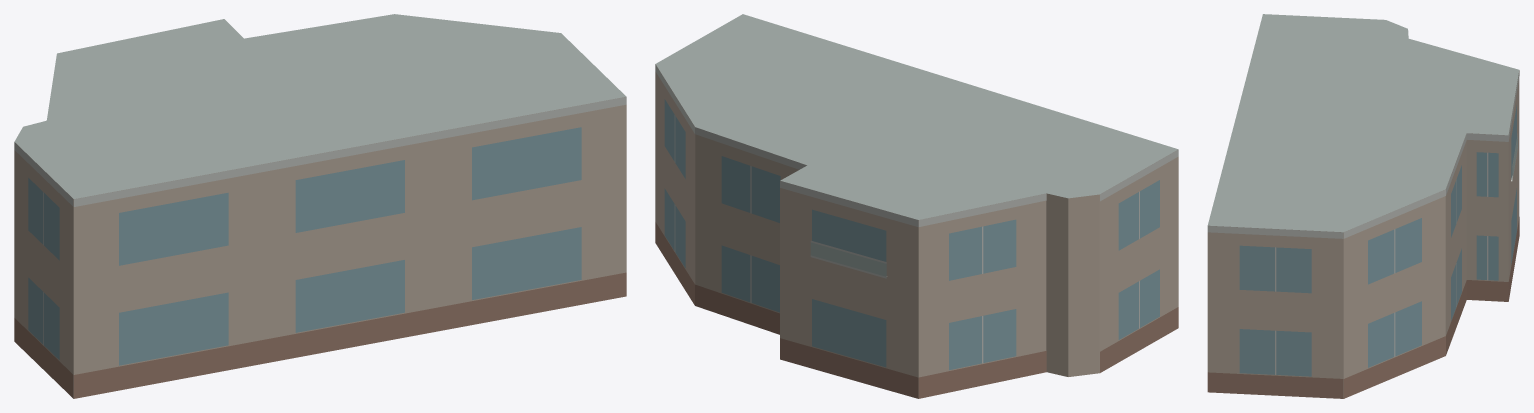
File: survey-upis-32775776.glb
The picture shows the model from 3 angles, left to right: view 1: azimuth 30°, elevation 25°; view 2: azimuth 150°, elevation 25°; view 3: azimuth 270°, elevation 25°; orthographic projection. The views are drawn at different scales.
Visible parts, largest first — view 1: survey-upis-32775776.tmp; view 2: survey-upis-32775776.tmp; view 3: survey-upis-32775776.tmp.
Boxes of the visible parts, x1=… form: survey-upis-32775776.tmp: x1=14, y1=14, x2=626, y2=398; survey-upis-32775776.tmp: x1=655, y1=14, x2=1178, y2=398; survey-upis-32775776.tmp: x1=1207, y1=14, x2=1519, y2=398.
Bounding box in the file's own units: 17.14 × 6.1 × 10.35.
